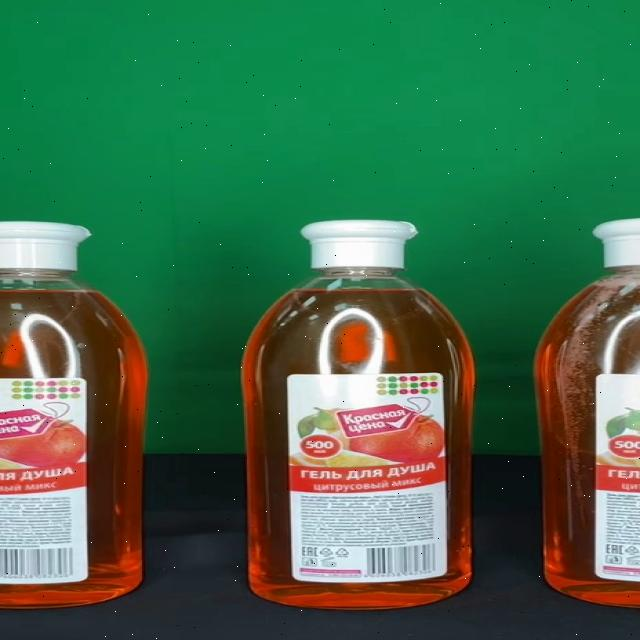Bottle: (241, 220, 477, 610)
Cap: (300, 220, 420, 270)
